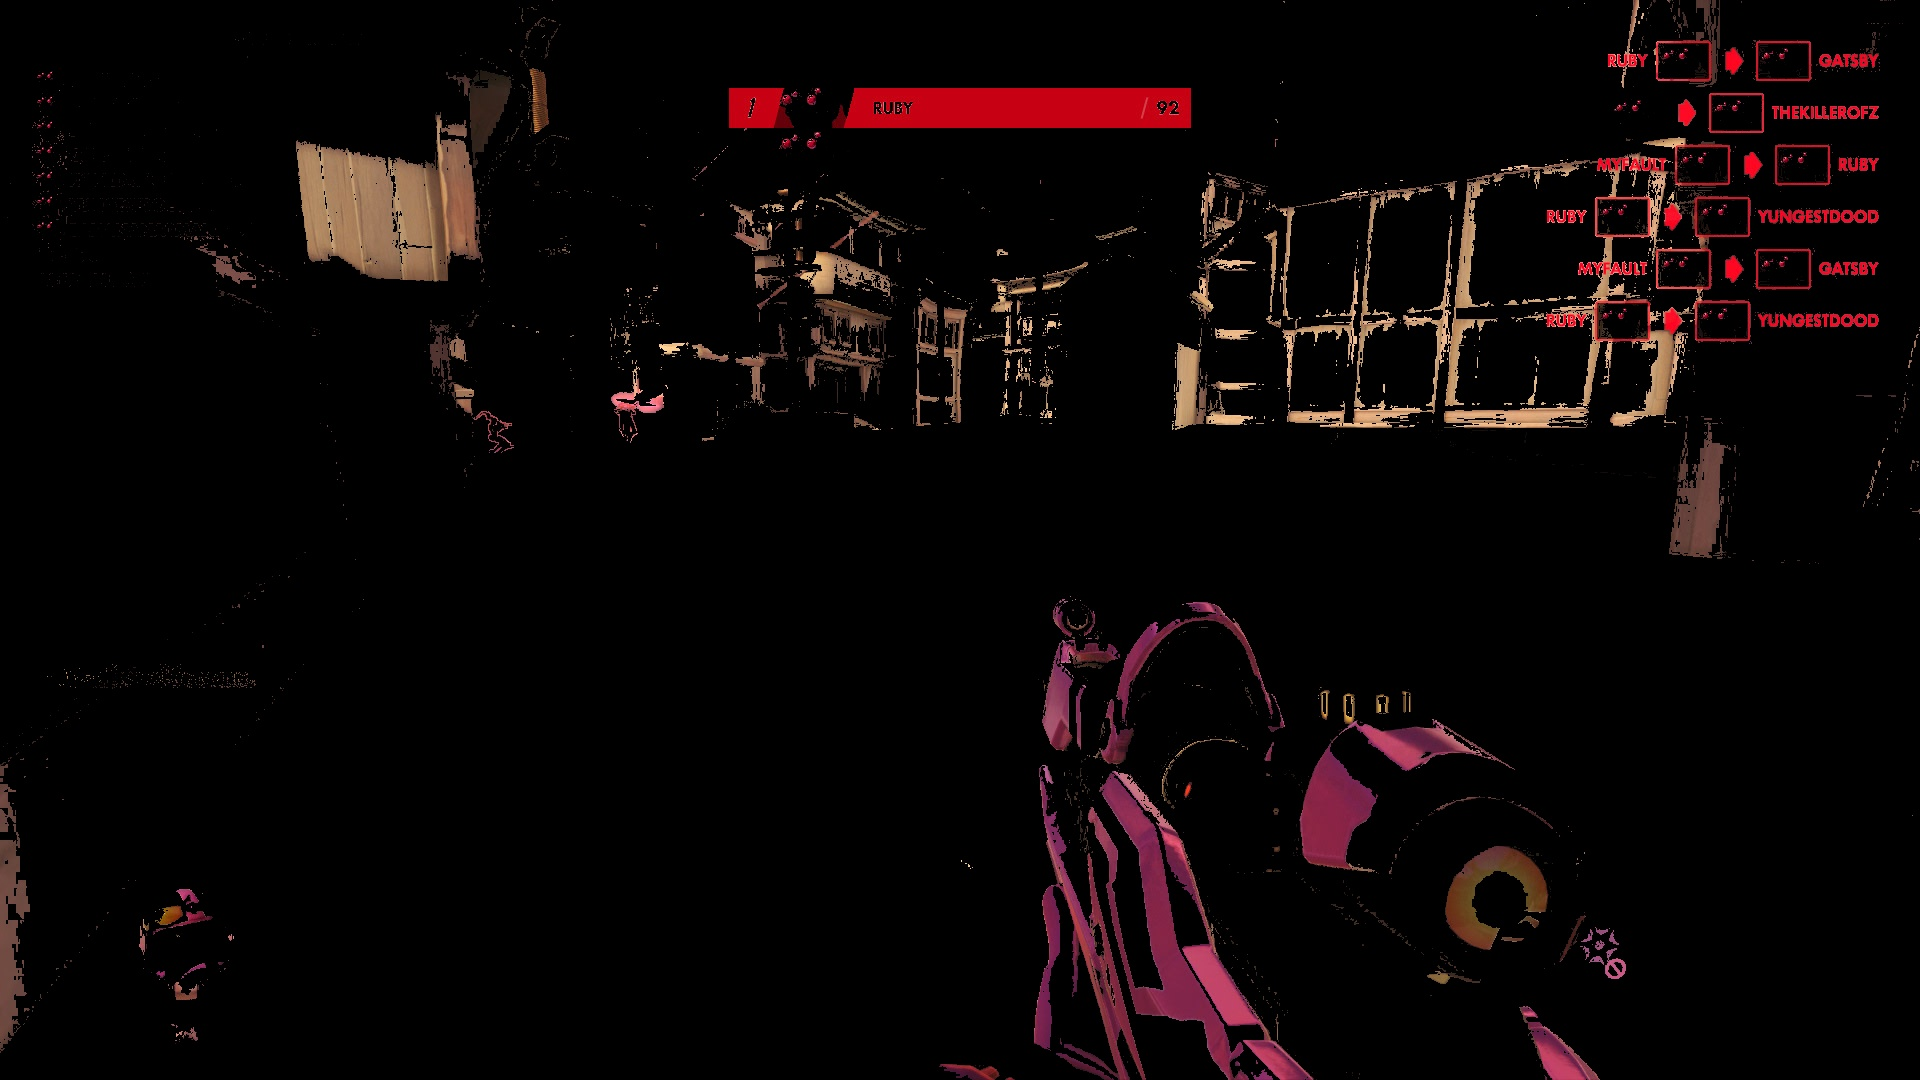widowmaker: (479, 410, 520, 462), (609, 400, 645, 446)
